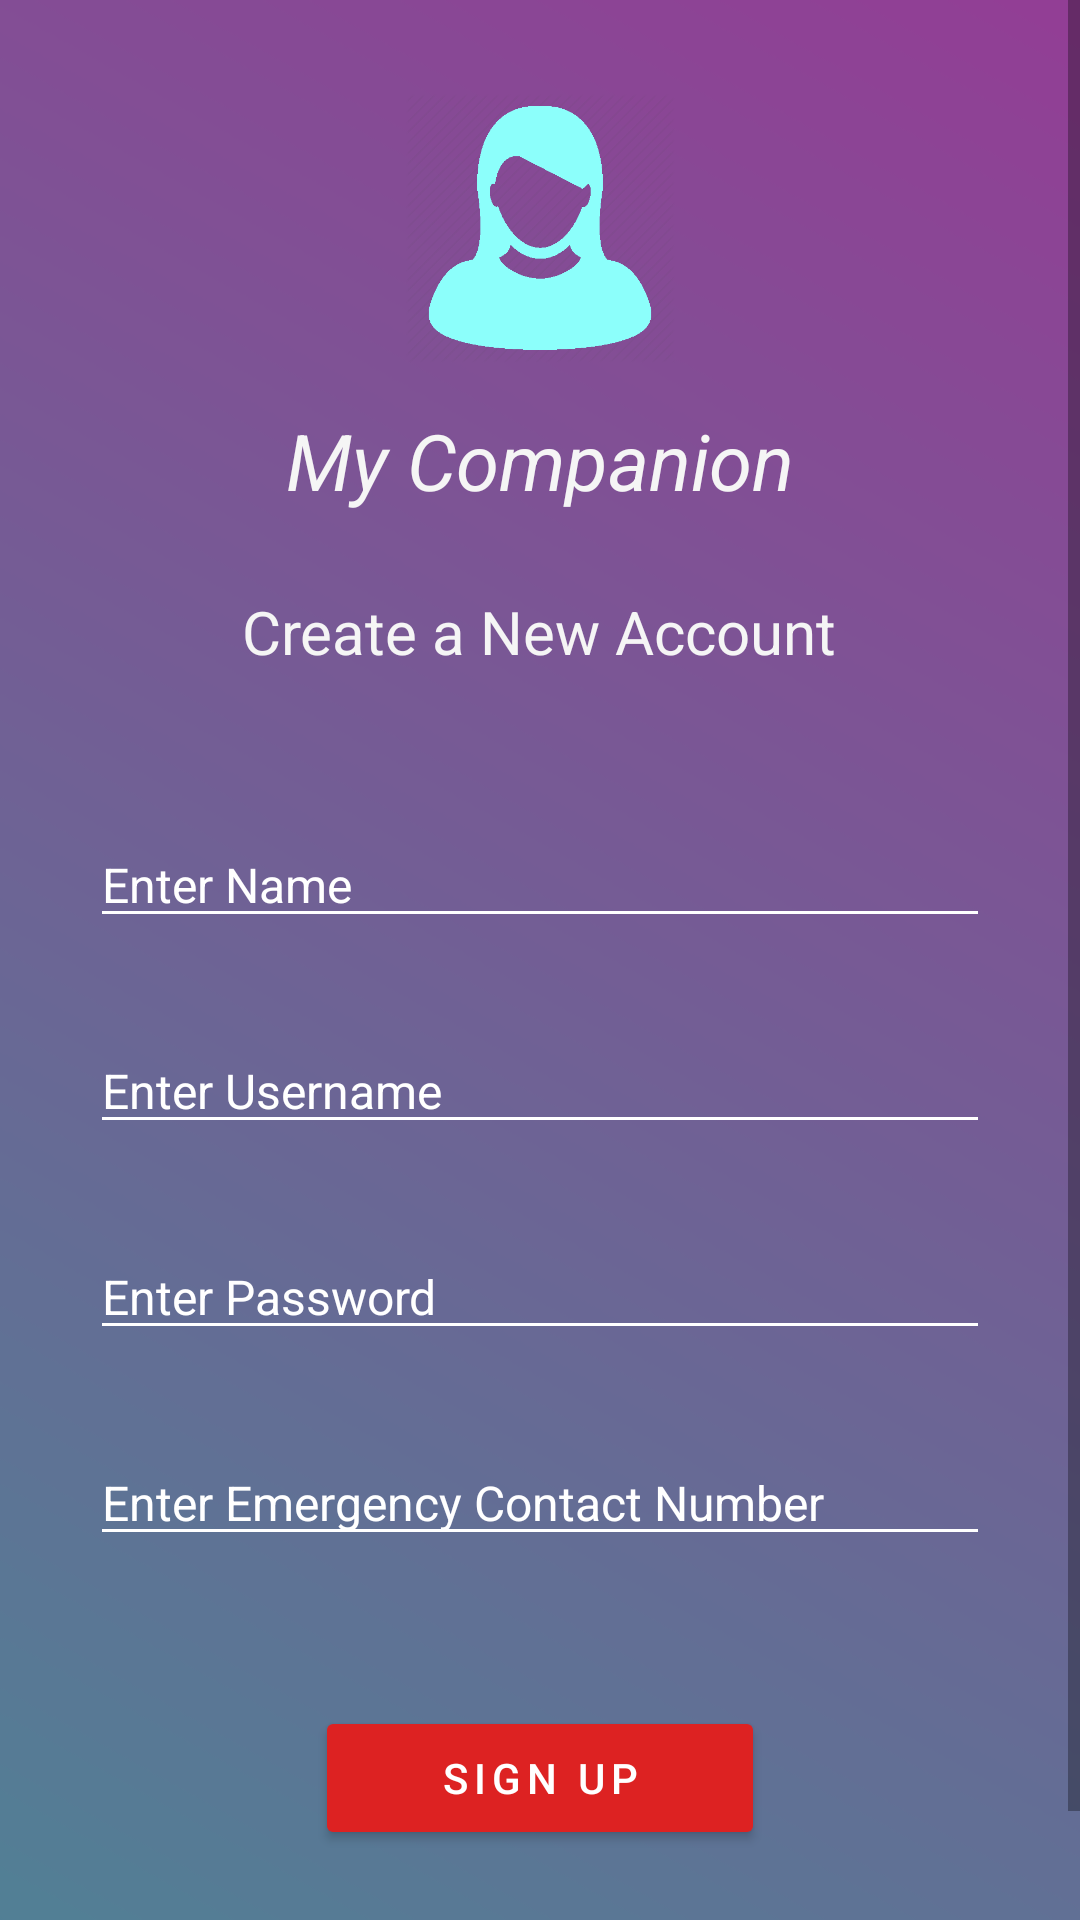

Where to tap for icons on this 1080 × 1920 app screen, as (x=x, y=y):
woman: (x=540, y=228)
